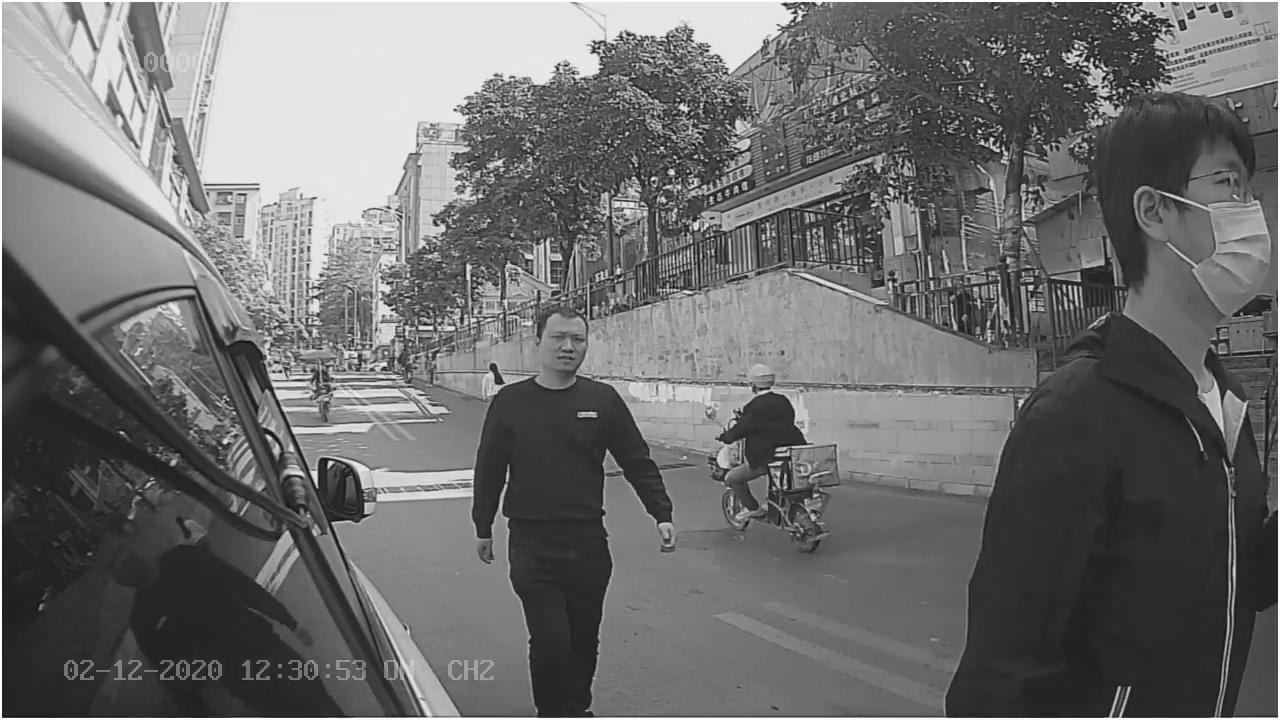person: (464, 300, 677, 568)
